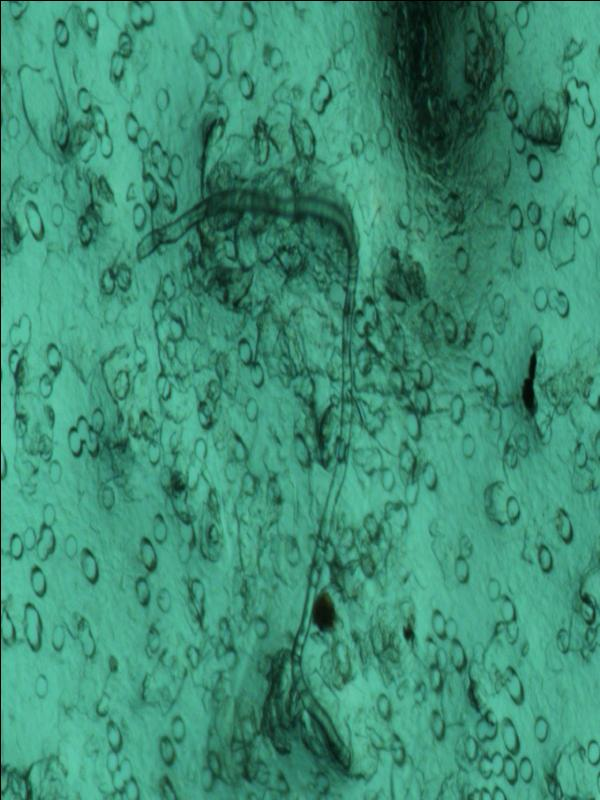microplastic: (1, 3, 598, 799), (134, 116, 368, 784)
